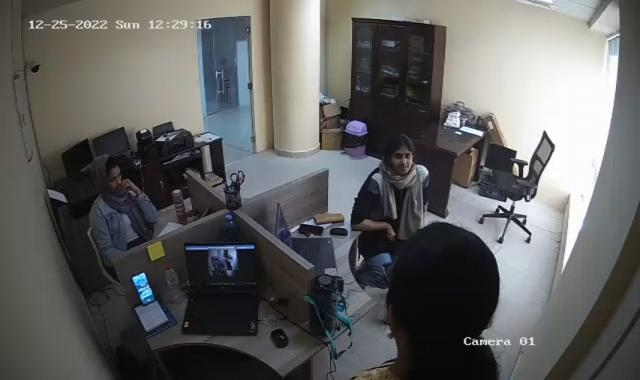no_hairnet: (380, 219, 498, 354), (384, 132, 414, 174), (93, 154, 123, 186)
